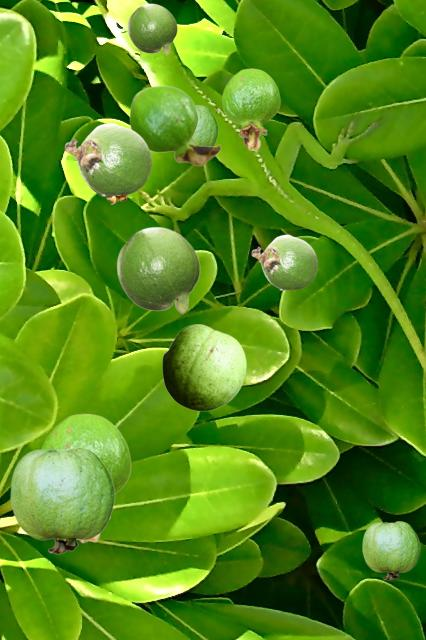guava: (41, 413, 130, 542), (10, 447, 114, 553), (129, 85, 220, 165), (116, 226, 199, 313), (162, 324, 245, 410), (64, 122, 151, 195), (222, 68, 279, 149), (251, 234, 317, 289), (362, 521, 419, 579), (127, 3, 176, 54), (194, 105, 217, 144), (89, 187, 128, 203)
